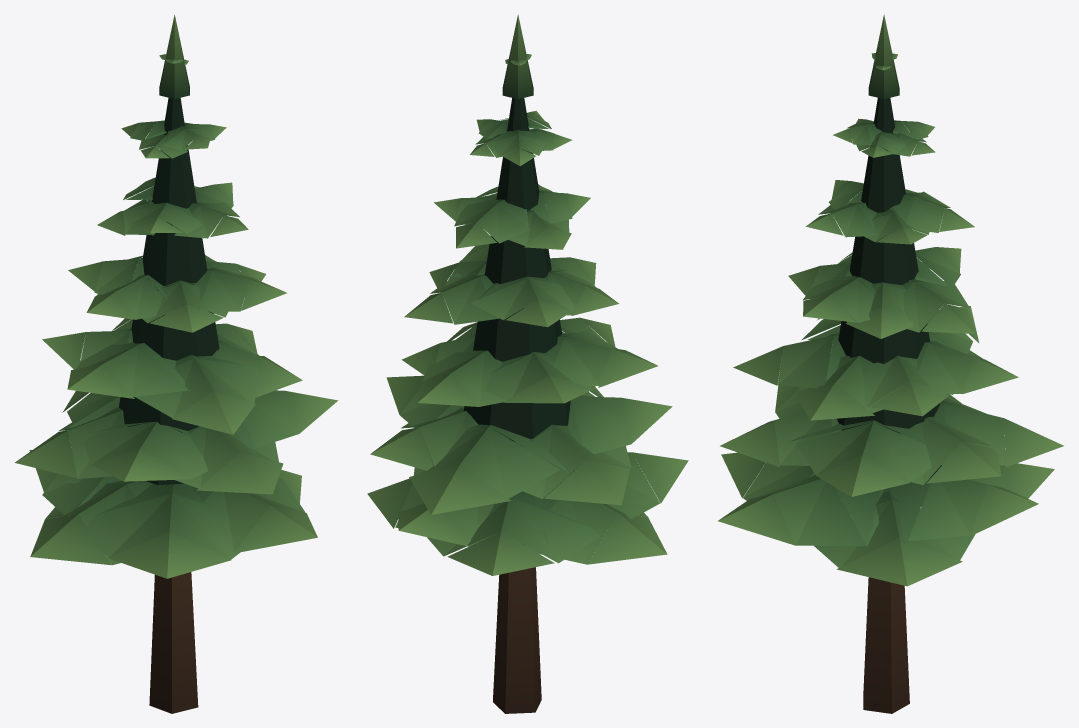
File: valley-pine_a_mid.glb
3 views of the same model, side by side, from view 1: azimuth 30°, elevation 25°; view 2: azimuth 150°, elevation 25°; view 3: azimuth 270°, elevation 25° (orthographic).
Parts seen in each view (by area): view 1: pine_a_mid; view 2: pine_a_mid; view 3: pine_a_mid.
Boxes of the visible parts, left/top/right/bottom form: pine_a_mid: left=14, top=15, right=338, bottom=713; pine_a_mid: left=367, top=14, right=688, bottom=713; pine_a_mid: left=717, top=14, right=1063, bottom=713.
Size of the model in its own units: 11.43 by 25.56 by 11.66.
